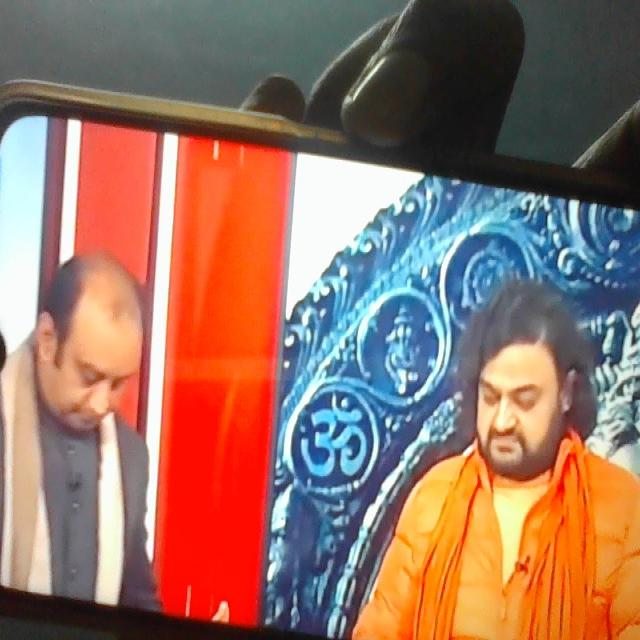fake: (467, 287, 576, 492)
